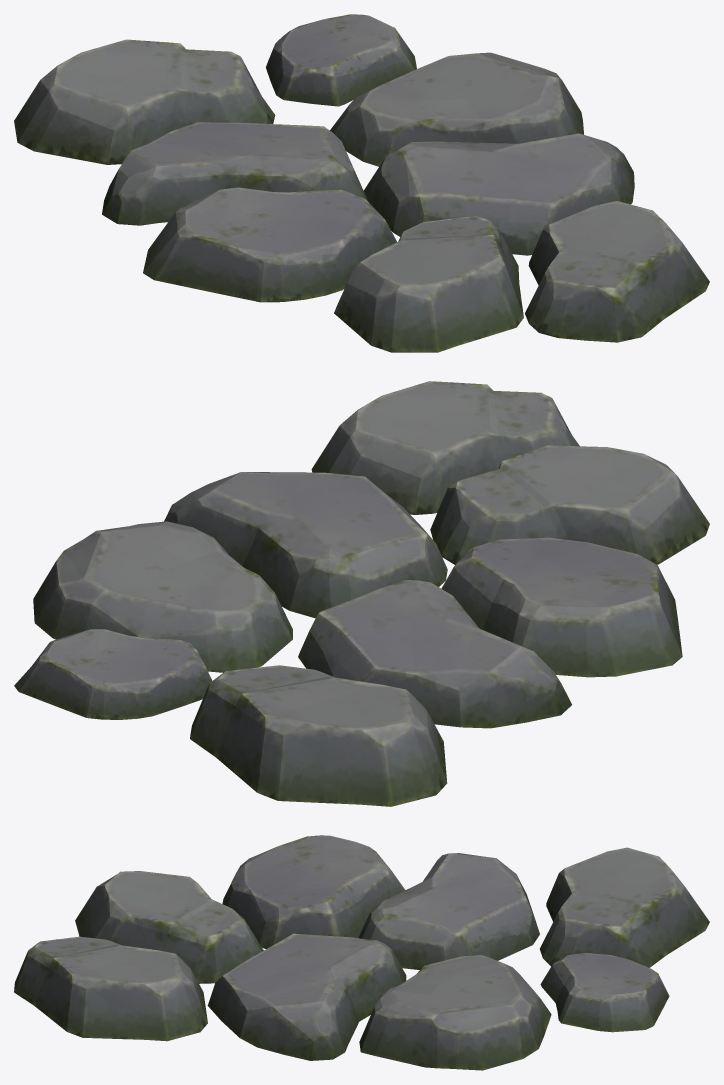
File: RockPath_Round_Small_1.gltf
The picture shows the model from 3 angles, top to bottom: view 1: azimuth 30°, elevation 25°; view 2: azimuth 150°, elevation 25°; view 3: azimuth 270°, elevation 25°; orthographic projection. The views are drawn at different scales.
Parts seen in each view (by area): view 1: RockPath_Round_Small_1; view 2: RockPath_Round_Small_1; view 3: RockPath_Round_Small_1.
Part boxes in pixels (<box>): RockPath_Round_Small_1: <box>14,14,709,352</box>; RockPath_Round_Small_1: <box>14,381,709,806</box>; RockPath_Round_Small_1: <box>14,835,709,1070</box>.
Bounding box in the file's own units: 1.06 × 0.1128 × 1.48.
Materials: 1 (1 with a texture image).
